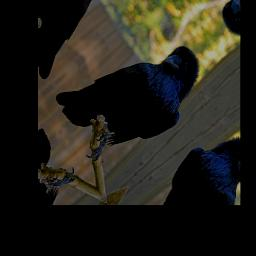Crow: (50, 2, 218, 187)
